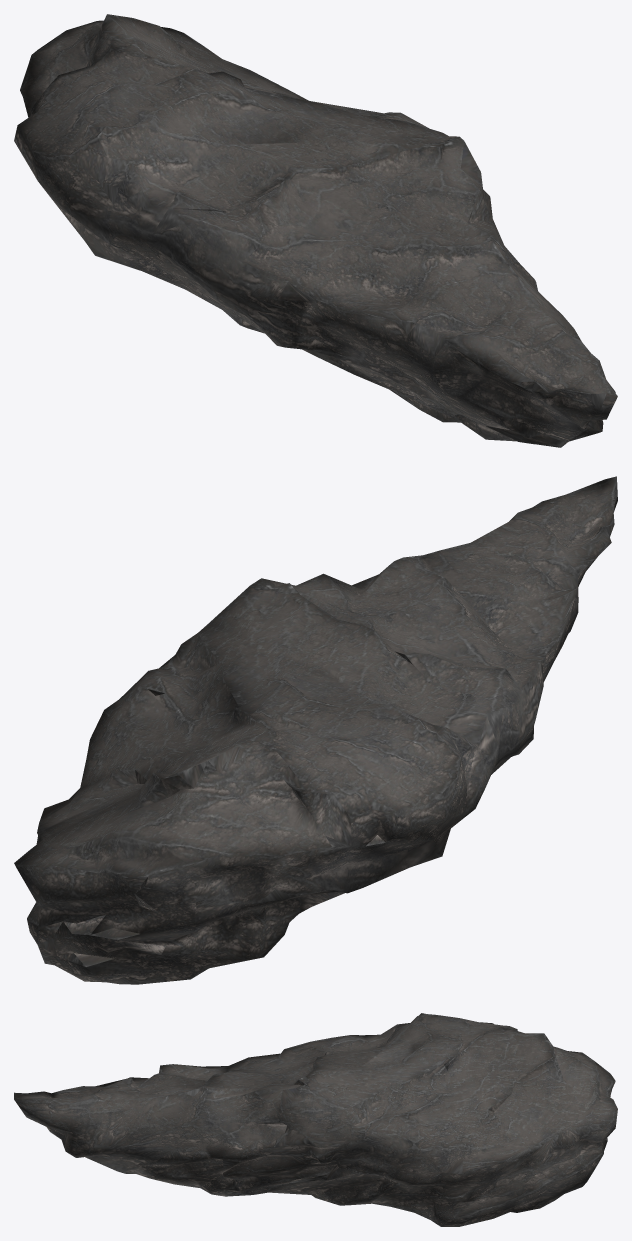
The model's file is Sharp_rock_02_GREY.fbx.
3 renders of one model, top to bottom at view 1: azimuth 30°, elevation 25°; view 2: azimuth 150°, elevation 25°; view 3: azimuth 270°, elevation 25°, orthographic. The views are drawn at different scales.
Parts seen in each view (by area): view 1: Sharp_rock_02_GREY; view 2: Sharp_rock_02_GREY; view 3: Sharp_rock_02_GREY.
Boxes of the visible parts, <box> form: Sharp_rock_02_GREY: <box>14,14,617,447</box>; Sharp_rock_02_GREY: <box>14,476,617,984</box>; Sharp_rock_02_GREY: <box>14,1013,617,1226</box>.
Bounding box in the file's own units: 4.81 × 3.12 × 11.81.
1 material, 1 textured.
